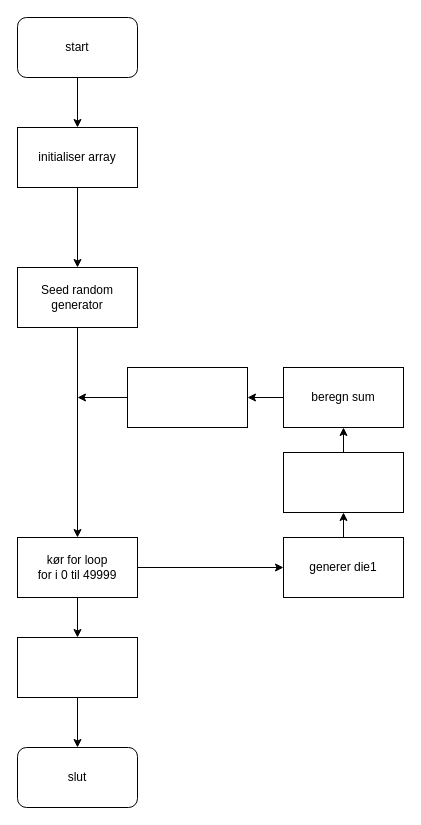
The diagram is 421 pixels wide and 825 high, and some of its shapes have lost their labels. The centre of each missing label's shape, as x and y in pixels:
"generer die2" goes at point 343,482.
"print resultat" goes at point 77,667.
"updater array" goes at point 187,397.
